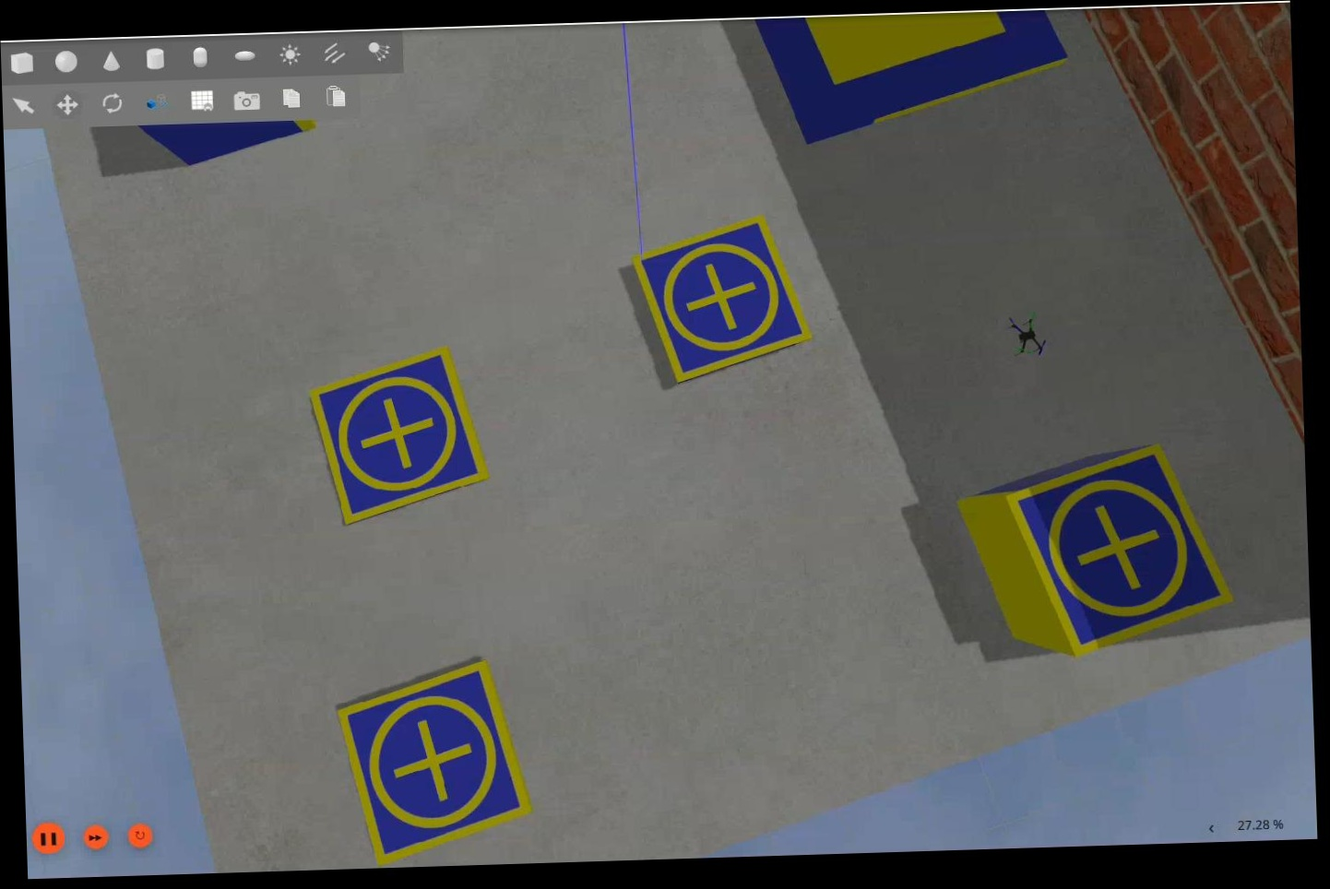large_base: (755, 7, 1072, 142)
small_base: (997, 444, 1238, 660), (338, 658, 531, 870), (305, 344, 495, 527), (630, 216, 813, 385)
